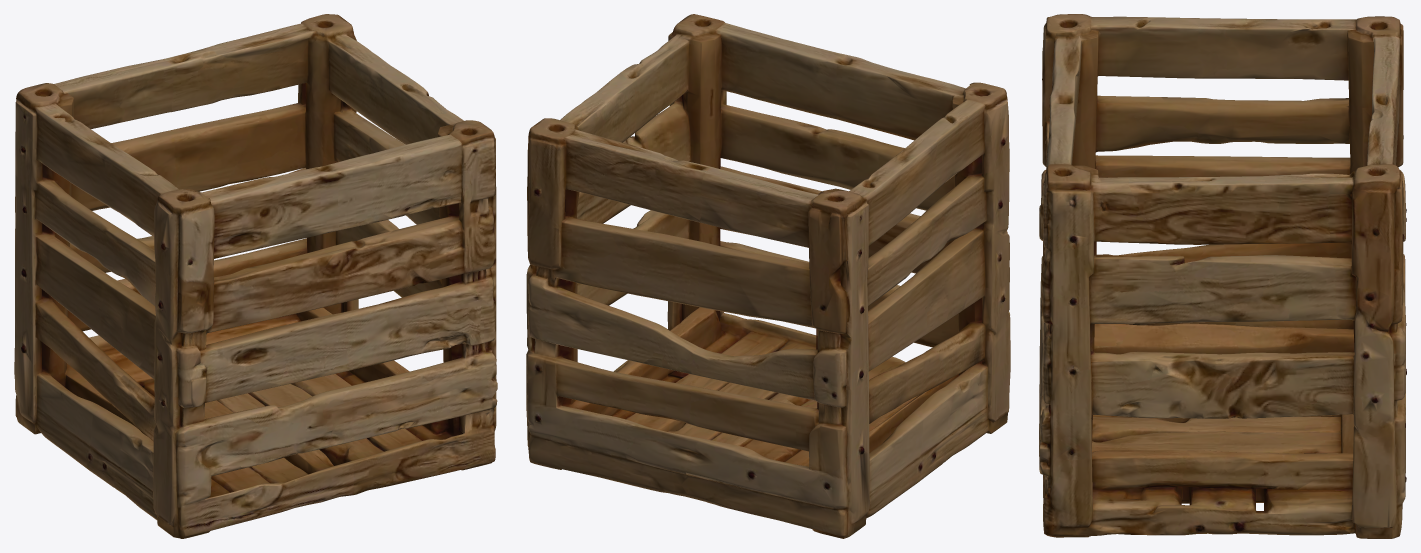
Rendered from tree_bush_1.glb.
The picture shows the model from 3 angles, left to right: view 1: azimuth 30°, elevation 25°; view 2: azimuth 150°, elevation 25°; view 3: azimuth 270°, elevation 25°; orthographic projection. The views are drawn at different scales.
Parts seen in each view (by area): view 1: tripo_node_861652ba-3551-4a6f-9dc4-22f09f8afc05; view 2: tripo_node_861652ba-3551-4a6f-9dc4-22f09f8afc05; view 3: tripo_node_861652ba-3551-4a6f-9dc4-22f09f8afc05.
Part boxes in pixels (x1,y1,x2,y2): tripo_node_861652ba-3551-4a6f-9dc4-22f09f8afc05: (14,14,497,538); tripo_node_861652ba-3551-4a6f-9dc4-22f09f8afc05: (526,14,1010,538); tripo_node_861652ba-3551-4a6f-9dc4-22f09f8afc05: (1039,14,1406,538).
Bounding box in the file's own units: 0.9776 × 0.9384 × 0.8757.
1 material, 1 textured.
